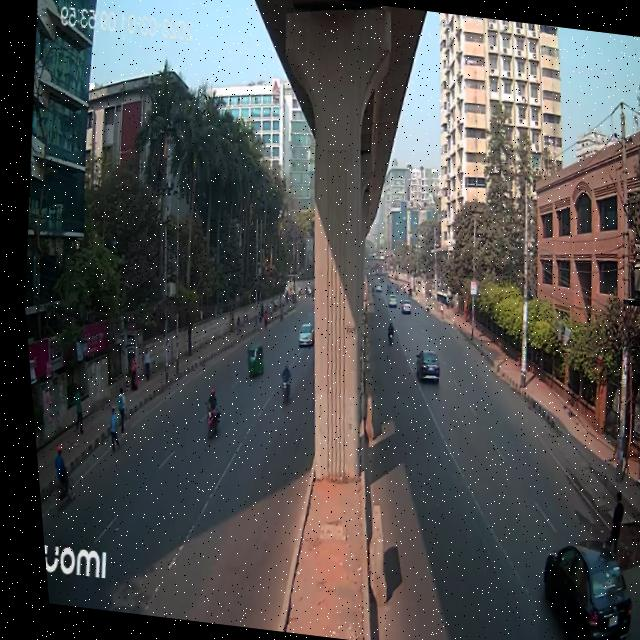cng: (233, 335, 263, 384)
